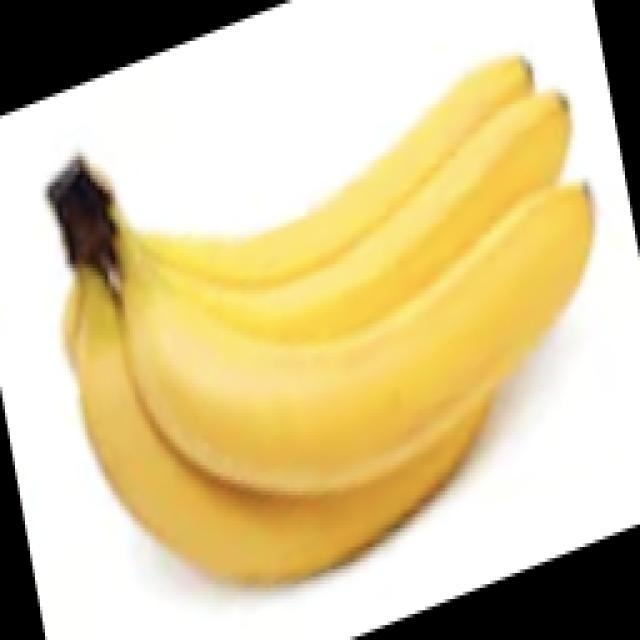Banana: (45, 53, 594, 586)
